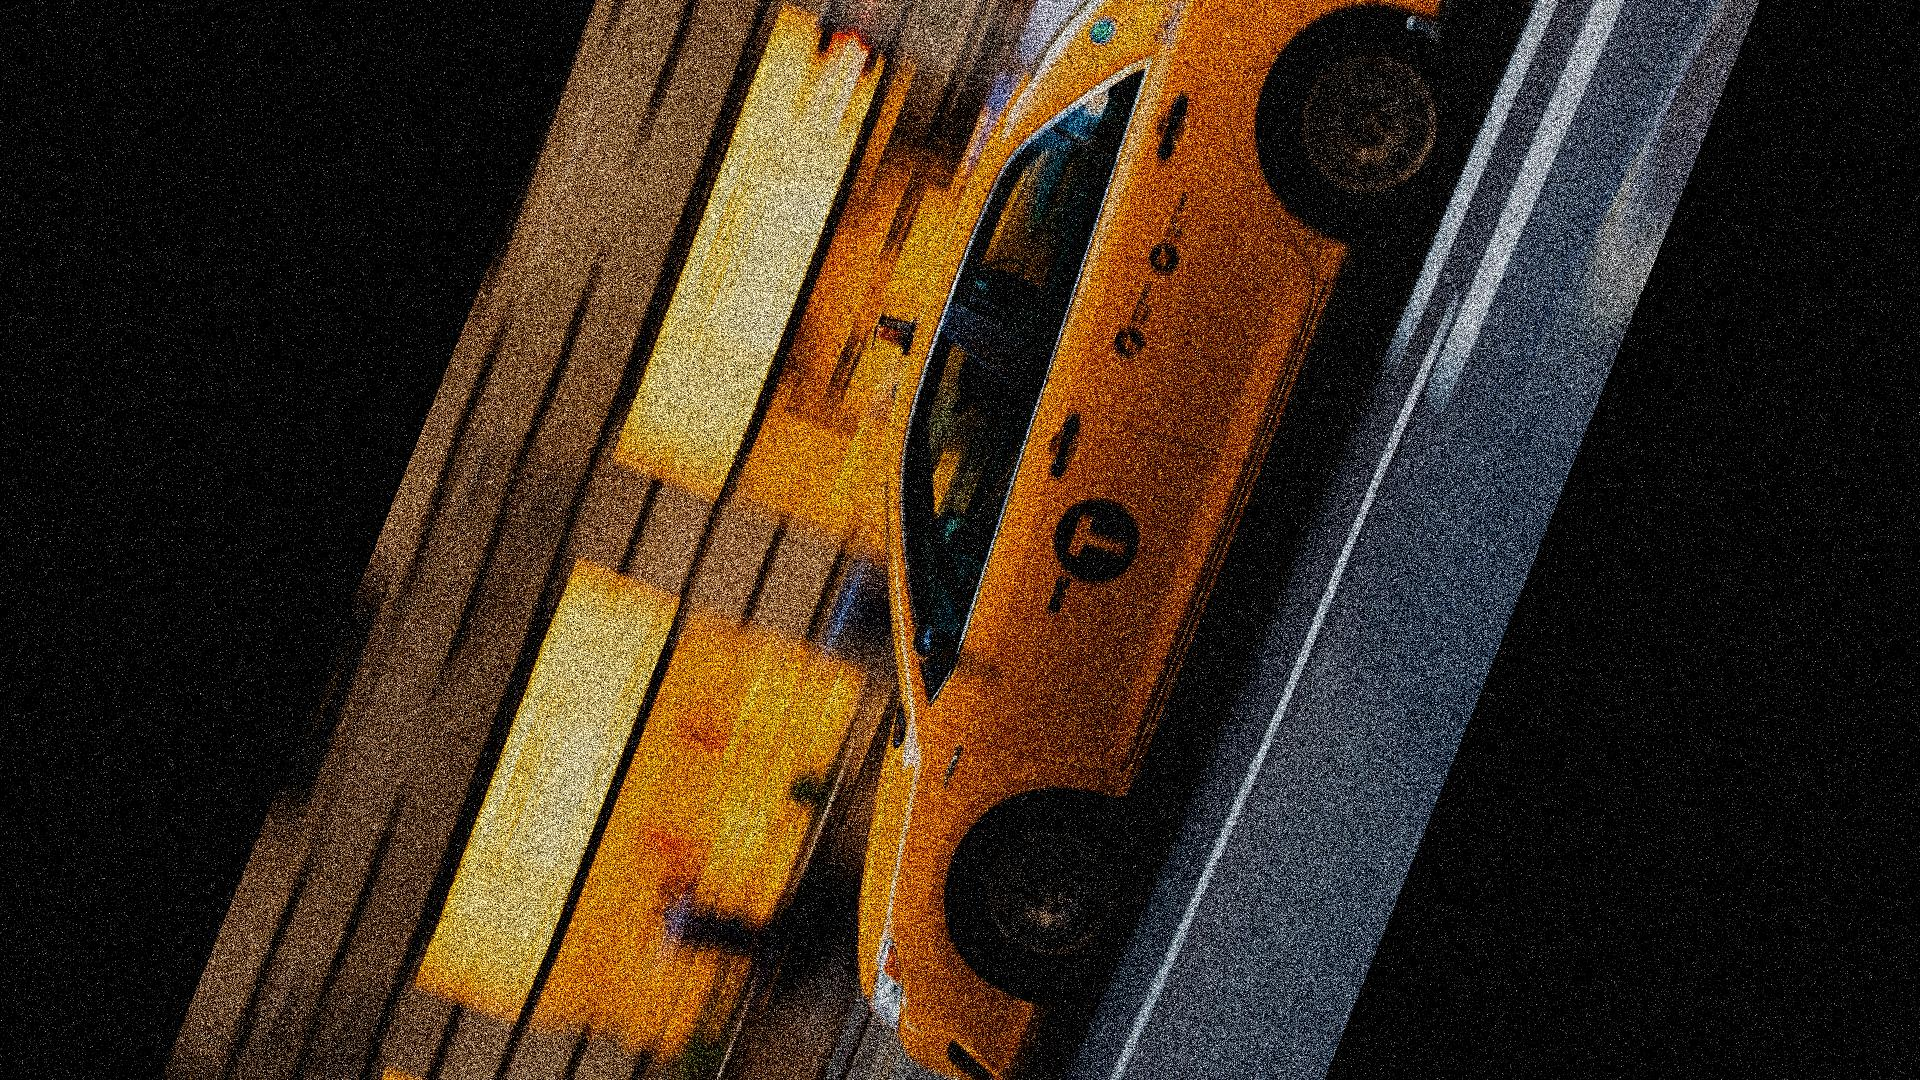taxi: (835, 1, 1411, 1073)
